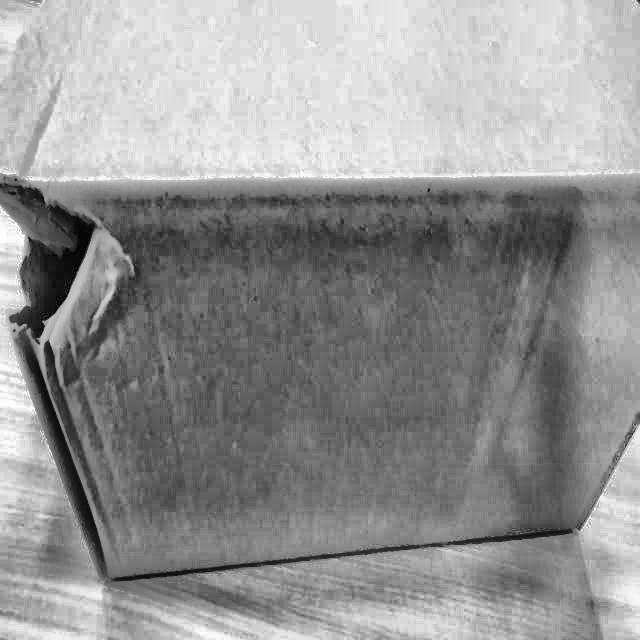box: (0, 0, 639, 598)
hole: (4, 169, 98, 347)
